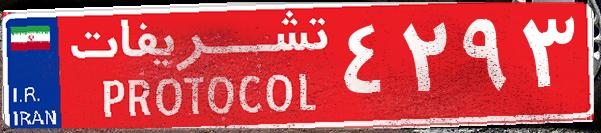2: (400, 20, 460, 115)
3: (520, 20, 580, 115)
4: (340, 20, 400, 115)
9: (460, 20, 520, 115)
تشریفات: (60, 8, 340, 125)
